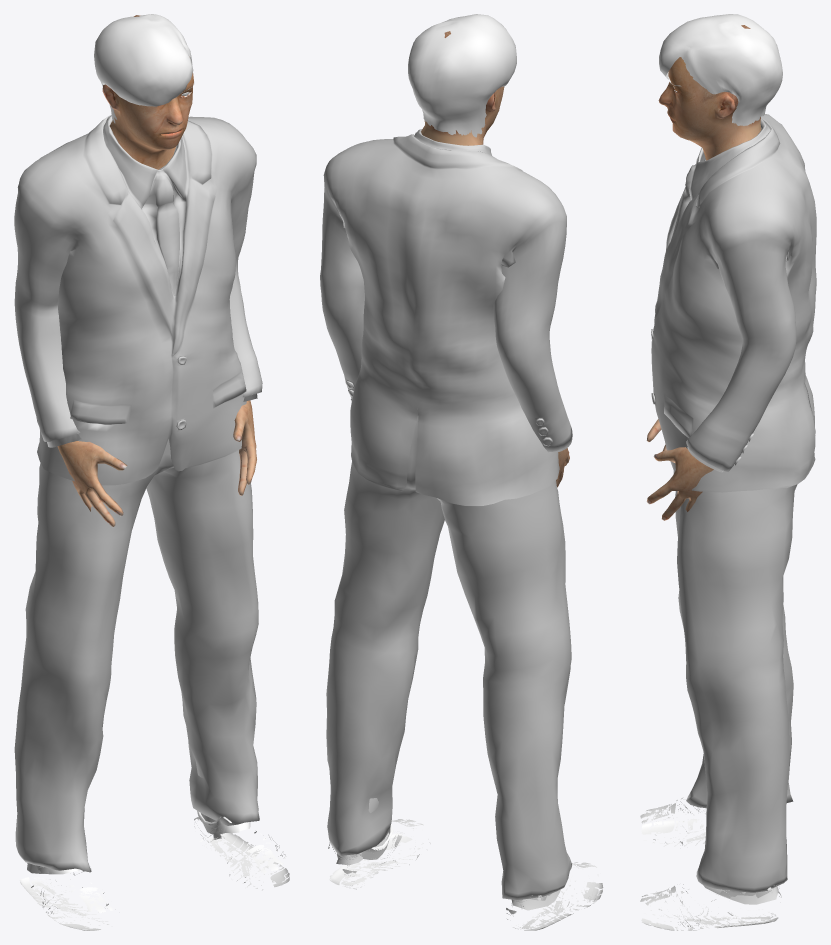
The model's file is ped07.fbx.
3 renders of one model, left to right at view 1: azimuth 30°, elevation 25°; view 2: azimuth 150°, elevation 25°; view 3: azimuth 270°, elevation 25°, orthographic.
Visible parts, largest first — view 1: Human.male_elegantsuit01, Human.male1591, Human.short03, Human.shoes02; view 2: Human.male_elegantsuit01, Human.short03, Human.shoes02, Human.male1591; view 3: Human.male_elegantsuit01, Human.short03, Human.male1591, Human.shoes02.
Boxes of the visible parts, <box> form: Human.male_elegantsuit01: <box>14,114,262,872</box>; Human.male1591: <box>57,15,256,526</box>; Human.short03: <box>94,14,193,123</box>; Human.shoes02: <box>19,762,289,930</box>; Human.male_elegantsuit01: <box>320,129,572,900</box>; Human.short03: <box>408,14,516,137</box>; Human.shoes02: <box>328,798,603,930</box>; Human.male1591: <box>421,31,569,487</box>; Human.male_elegantsuit01: <box>651,114,816,892</box>; Human.short03: <box>659,14,782,125</box>; Human.male1591: <box>646,25,761,520</box>; Human.shoes02: <box>640,797,781,930</box>.
Bounding box in the file's own units: 49.73 × 175 × 33.84.
